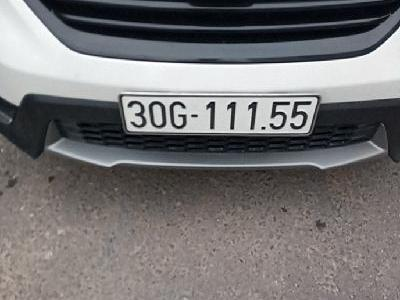lisence: (117, 91, 322, 138)
